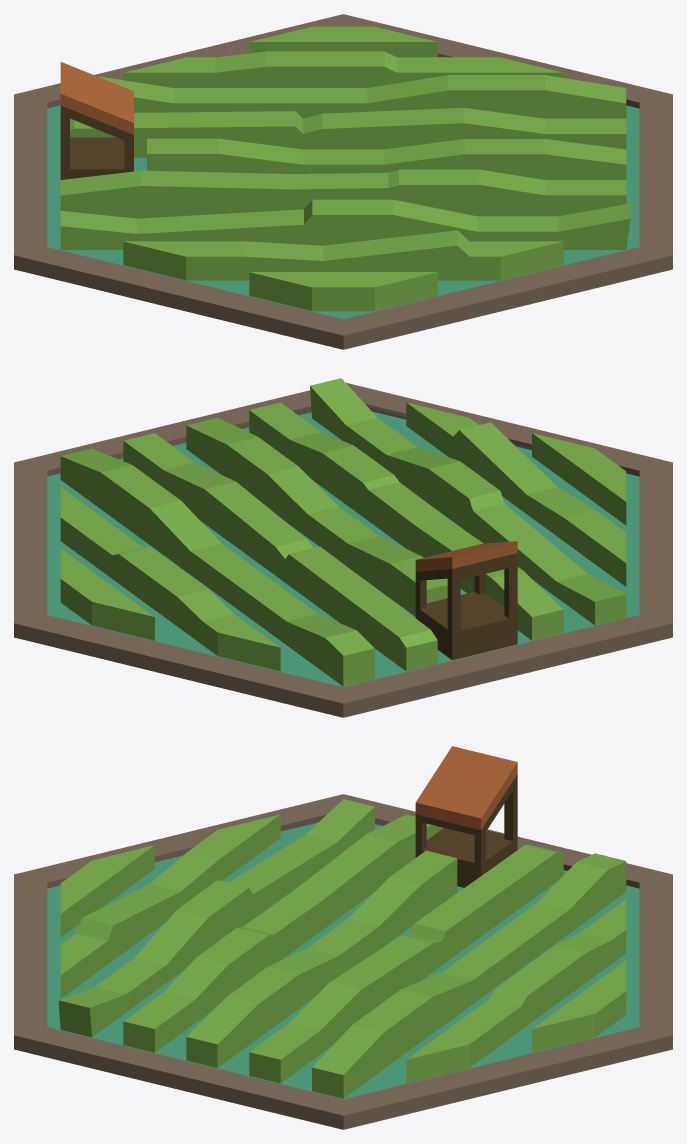
File: MJ_Building_RiceField.fbx
3 renders of one model, top to bottom at view 1: azimuth 30°, elevation 25°; view 2: azimuth 150°, elevation 25°; view 3: azimuth 270°, elevation 25°, orthographic.
Parts seen in each view (by area): view 1: Model; view 2: Model; view 3: Model.
Boxes of the visible parts, x1=… form: Model: x1=14, y1=14, x2=672, y2=349; Model: x1=14, y1=378, x2=672, y2=717; Model: x1=14, y1=746, x2=672, y2=1129.
Bounding box in the file's own units: 5.82 × 0.9411 × 5.04.
